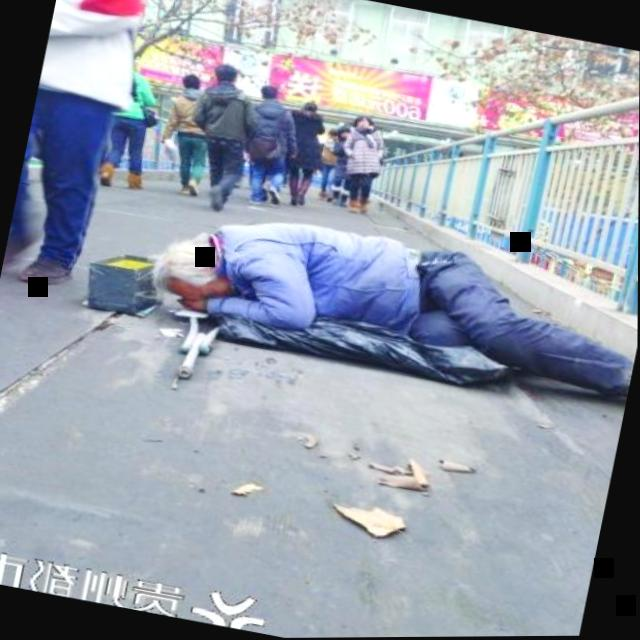Fall-Detected: (150, 177, 639, 430)
